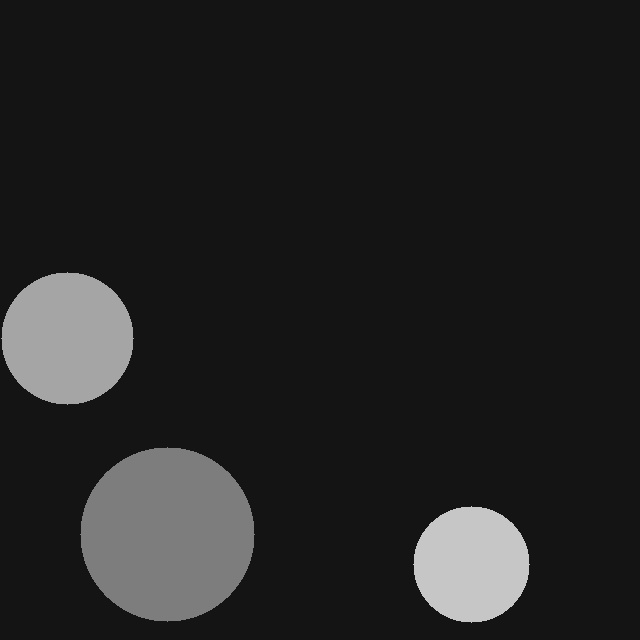circle: (80, 447, 254, 621), (1, 272, 133, 404), (413, 506, 529, 622)
